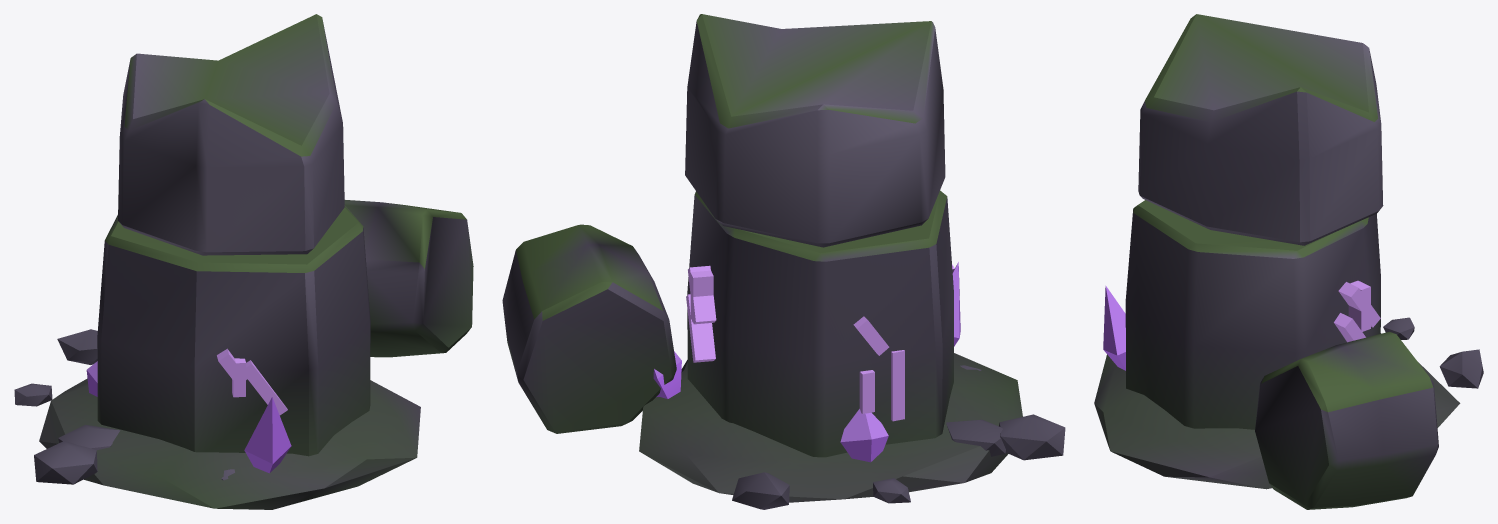
The model's file is den_pillar_broken.glb.
The picture shows the model from 3 angles, left to right: view 1: azimuth 30°, elevation 25°; view 2: azimuth 150°, elevation 25°; view 3: azimuth 270°, elevation 25°; orthographic projection. The views are drawn at different scales.
Visible parts, largest first — view 1: den_pillar_broken, den_pillar_broken_runes; view 2: den_pillar_broken, den_pillar_broken_runes; view 3: den_pillar_broken, den_pillar_broken_runes.
Boxes of the visible parts, bbox=[...] form: den_pillar_broken: bbox=[14, 14, 473, 509]; den_pillar_broken_runes: bbox=[86, 348, 291, 473]; den_pillar_broken: bbox=[502, 14, 1065, 509]; den_pillar_broken_runes: bbox=[653, 262, 960, 462]; den_pillar_broken: bbox=[1094, 14, 1483, 509]; den_pillar_broken_runes: bbox=[1103, 280, 1380, 370].
Size of the model in its own units: 3.93 by 3.13 by 2.81.
